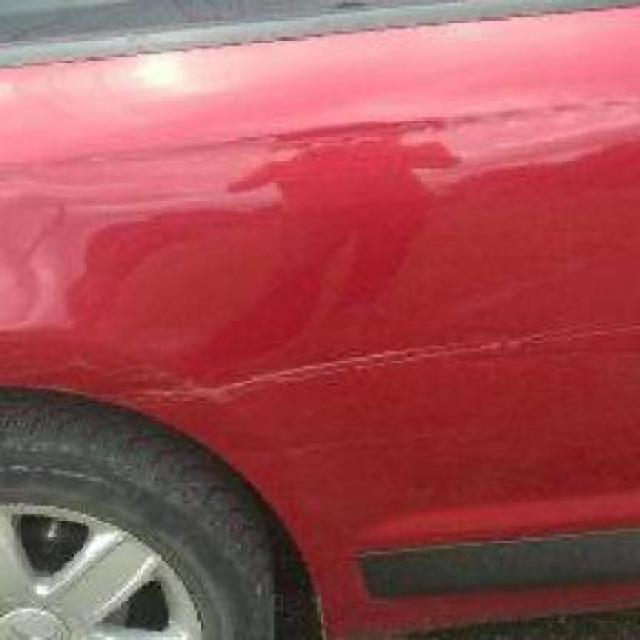dent-or-scratch: (134, 306, 637, 412)
